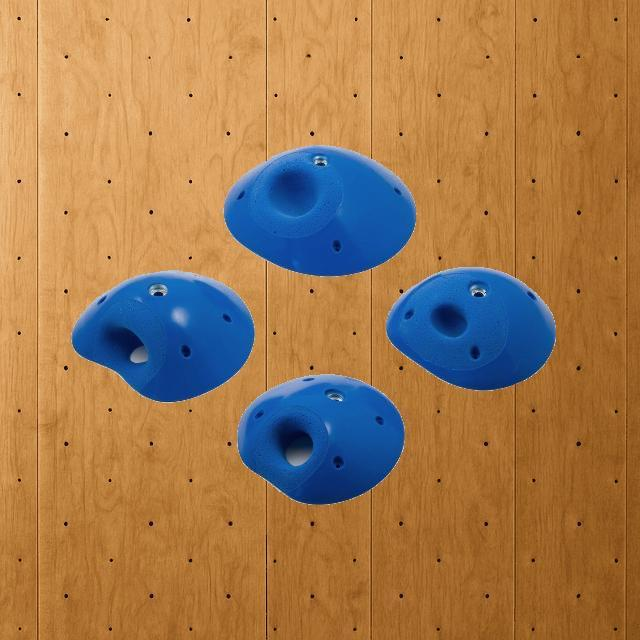Pocket: (222, 142, 418, 278), (71, 268, 255, 402), (236, 373, 404, 505), (384, 265, 556, 389)
